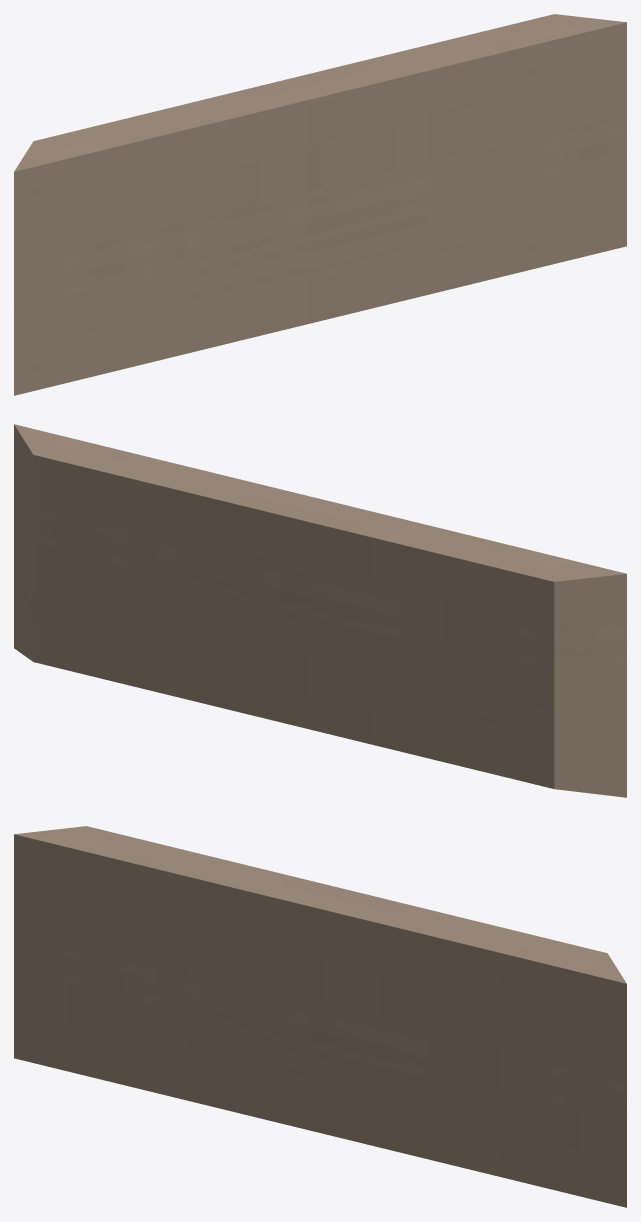
The model's file is wall4.glb.
The picture shows the model from 3 angles, top to bottom: view 1: azimuth 30°, elevation 25°; view 2: azimuth 150°, elevation 25°; view 3: azimuth 330°, elevation 25°; orthographic projection.
Parts seen in each view (by area): view 1: Wall4; view 2: Wall4; view 3: Wall4.
Boxes of the visible parts, <box> form: Wall4: <box>14,14,626,395</box>; Wall4: <box>14,424,626,797</box>; Wall4: <box>14,826,626,1207</box>.
Size of the model in its own units: 36.32 by 12.69 by 2.72.
Materials: 1 (1 with a texture image).
